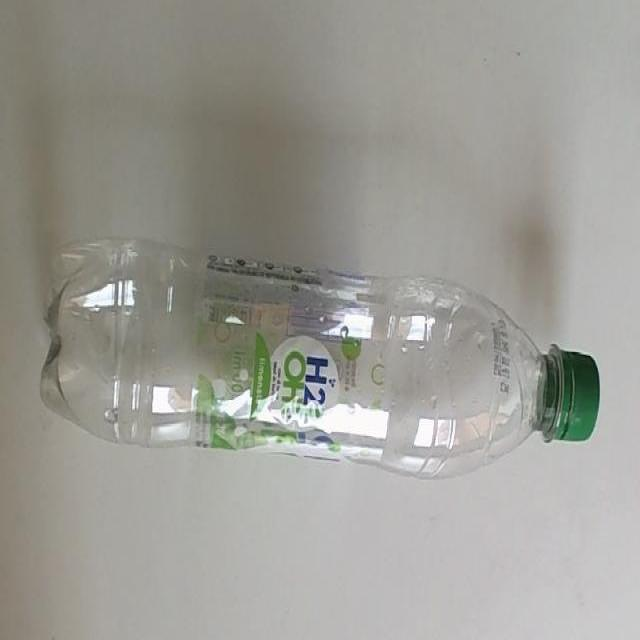non-defect: (37, 234, 601, 484)
